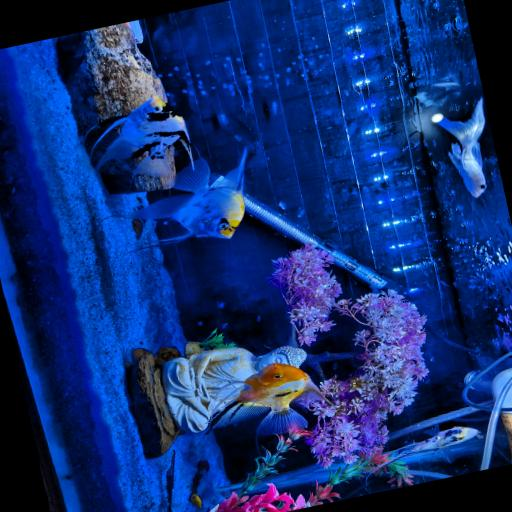Fish: (123, 151, 246, 245), (211, 363, 329, 435), (90, 98, 193, 177), (367, 427, 479, 474), (432, 99, 485, 198), (190, 494, 201, 508)
